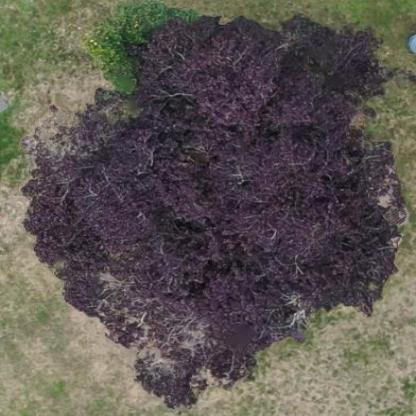Deciduous Tree: (23, 17, 408, 410)
